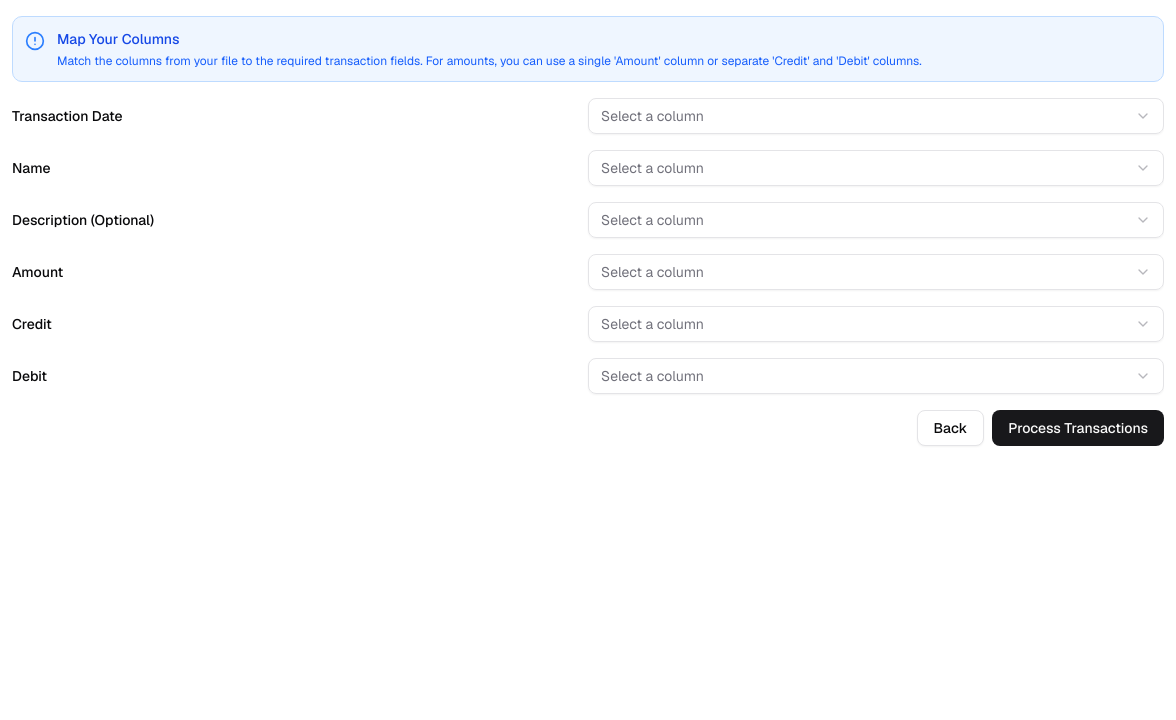
Test case: MapColumns › requires the transaction date and name
What coordinates should you click on to do the following:
click the button "Process Transactions"
I would click on:
 (1078, 428)
Its box is 992,410 -> 1164,446.
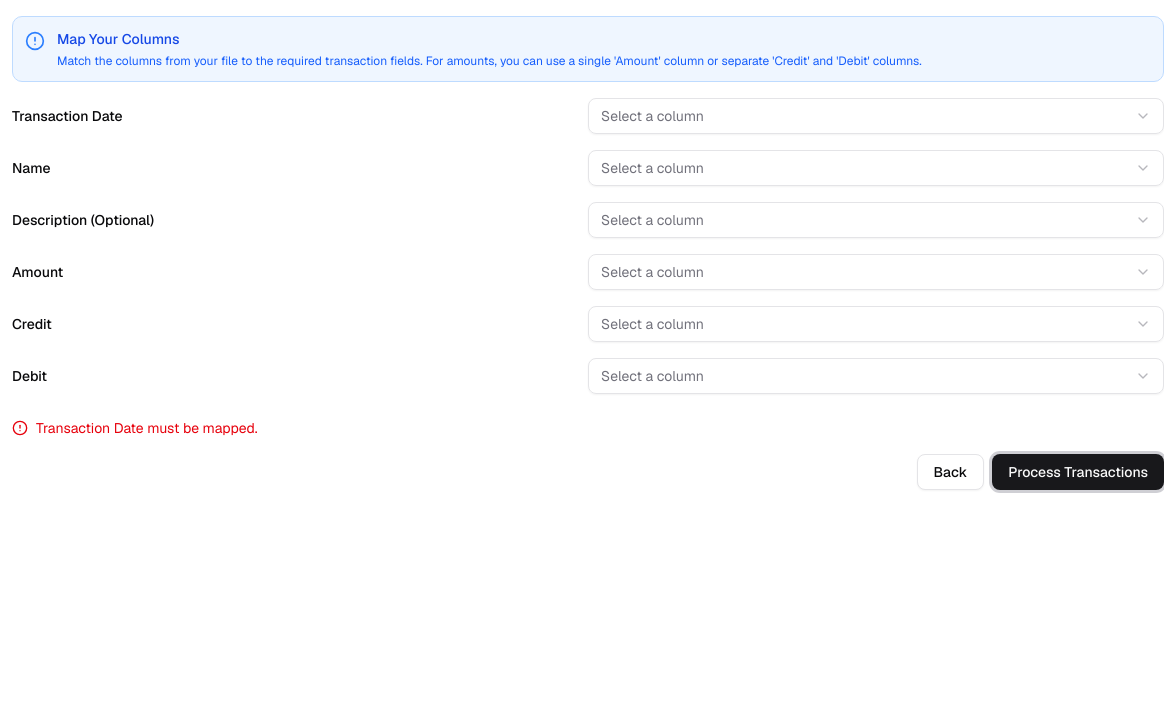
Result: the text "Transaction Date must be mapped." is shown at 36,418 -> 258,438
What coordinates should you click on to do the following:
click the 1st dropdown labelled "Select a column"
I would click on:
 (652, 116)
Its box is 588,98 -> 1164,134.
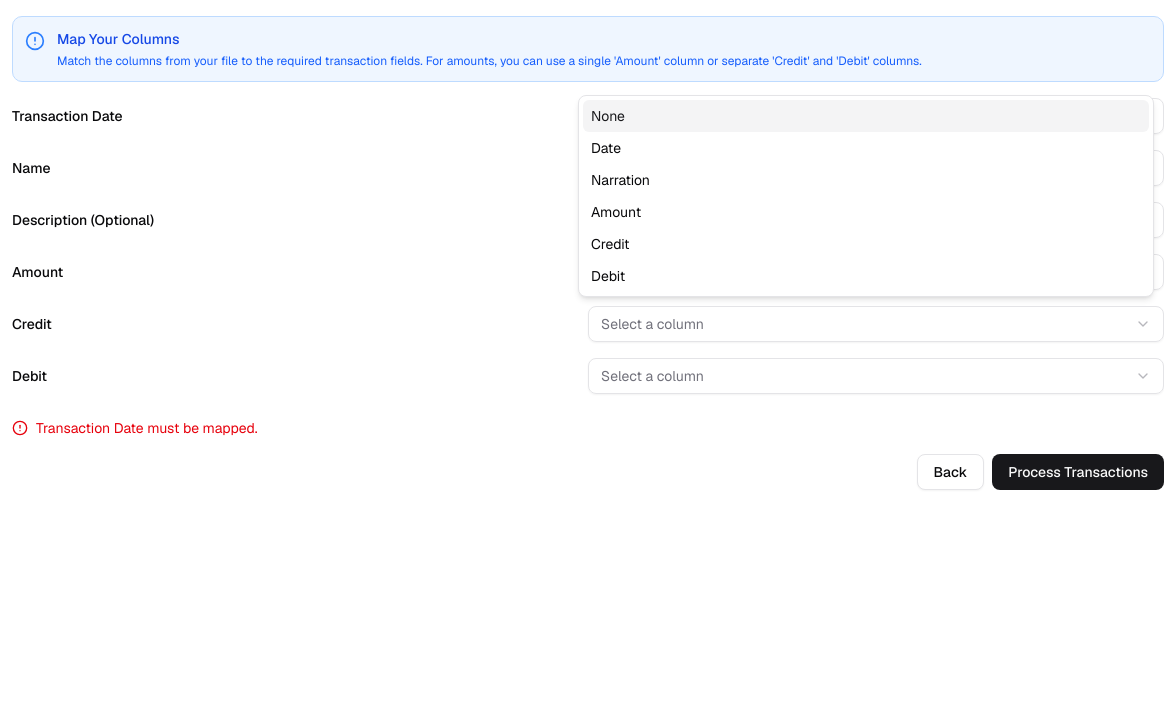
What coordinates should you click on to do the following:
click the option "Date"
I would click on:
 (606, 148)
Its box is 591,139 -> 621,157.
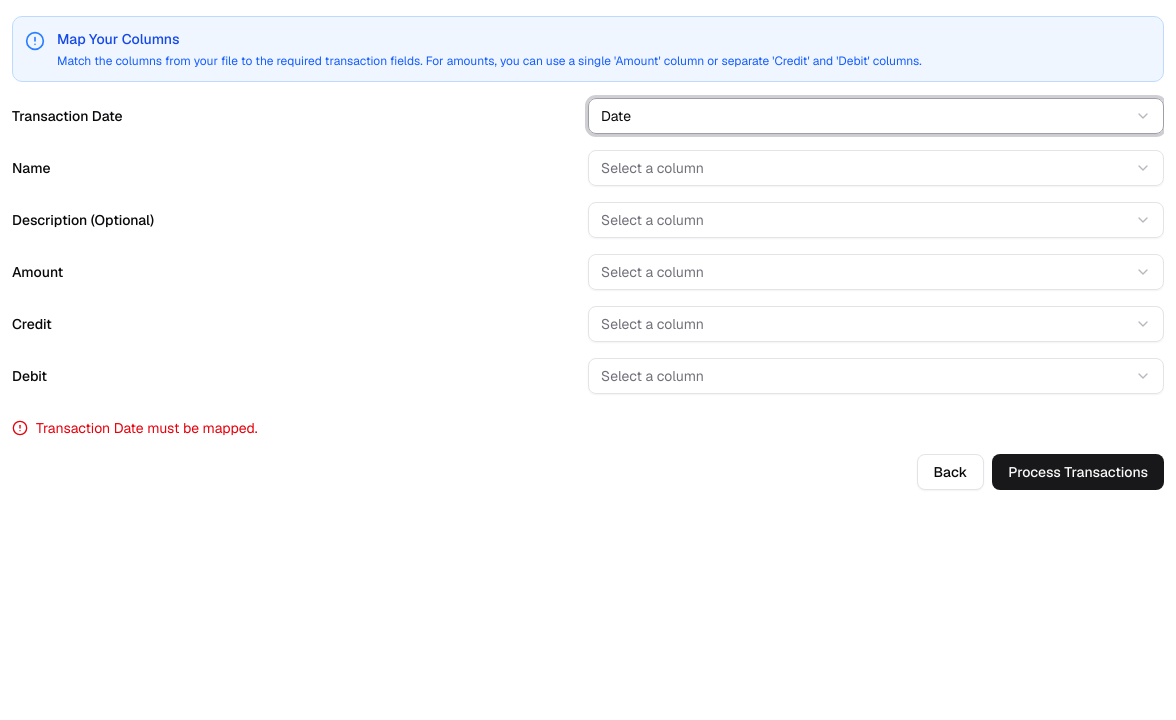
What coordinates should you click on to do the following:
click the button "Process Transactions"
I would click on:
 (1078, 472)
Its box is 992,454 -> 1164,490.
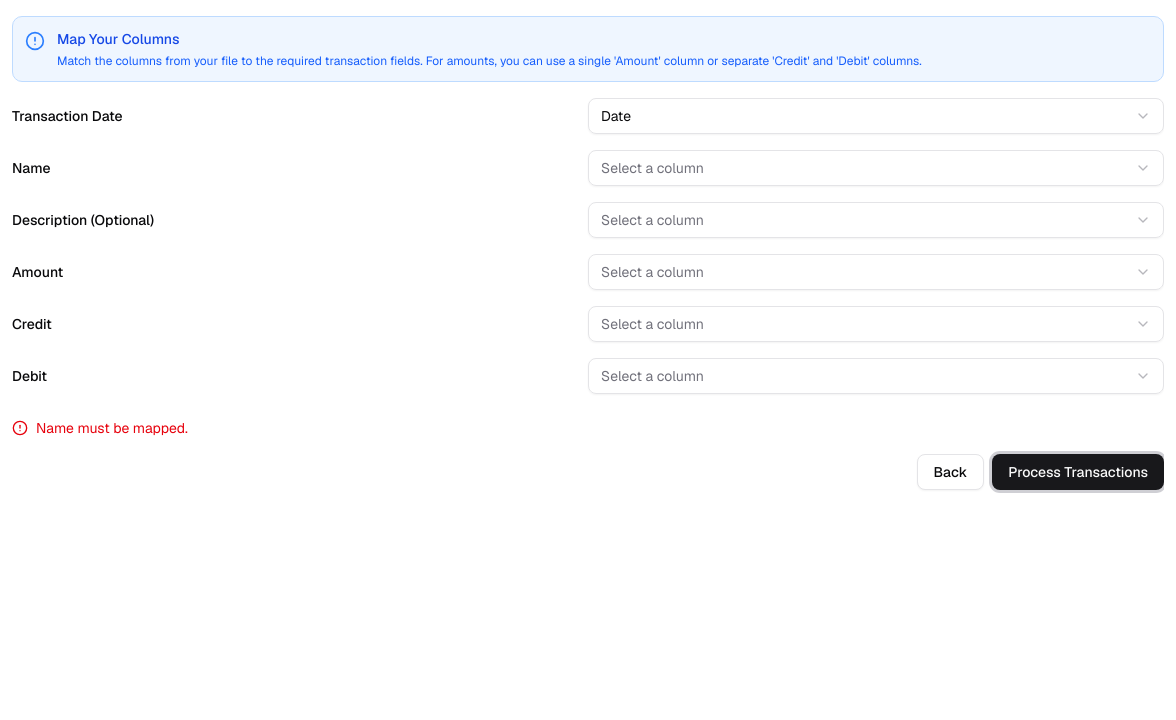
Result: the text "Name must be mapped." is shown at 36,418 -> 188,438
